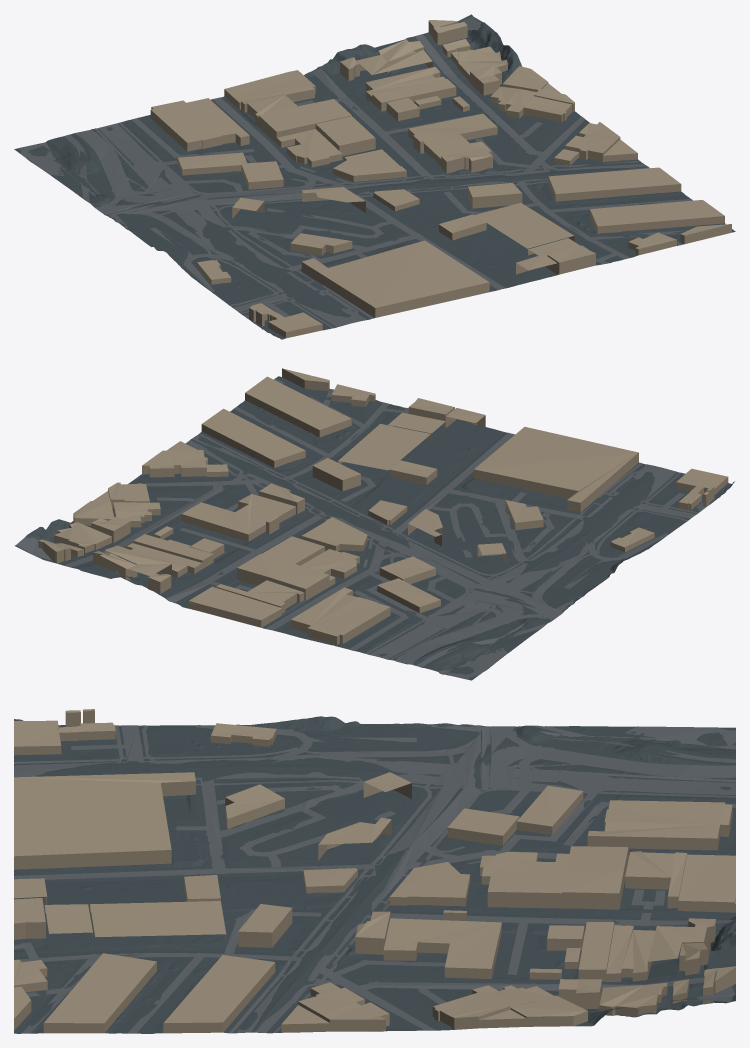
File: epsg26910-1438-10877.lod0.glb
The picture shows the model from 3 angles, top to bottom: view 1: azimuth 30°, elevation 25°; view 2: azimuth 150°, elevation 25°; view 3: azimuth 270°, elevation 25°; orthographic projection. The views are drawn at different scales.
Visible parts, largest first — view 1: epsg26910-1438-10877-lod0; view 2: epsg26910-1438-10877-lod0; view 3: epsg26910-1438-10877-lod0.
Part boxes in pixels (x1=…): epsg26910-1438-10877-lod0: x1=14, y1=14, x2=735, y2=339; epsg26910-1438-10877-lod0: x1=14, y1=368, x2=734, y2=680; epsg26910-1438-10877-lod0: x1=14, y1=709, x2=735, y2=1033.
Bounding box in the file's own units: 384 × 23.83 × 384.
